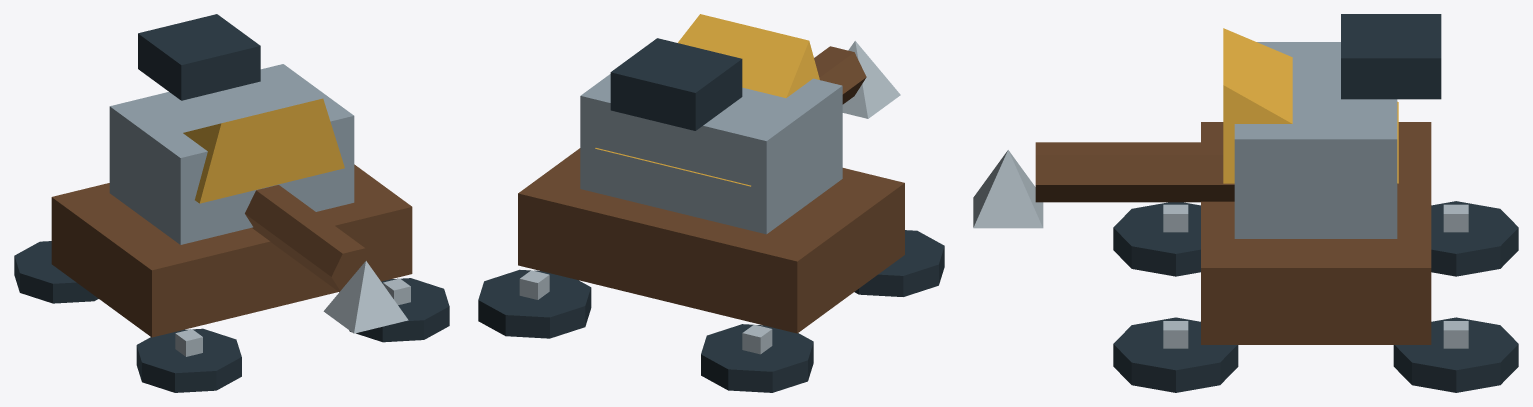
Rendered from siege.obj.
3 renders of one model, left to right at view 1: azimuth 30°, elevation 25°; view 2: azimuth 150°, elevation 25°; view 3: azimuth 270°, elevation 25°, orthographic. The views are drawn at different scales.
Parts seen in each view (by area): view 1: siege; view 2: siege; view 3: siege.
Part boxes in pixels (<box>): siege: <box>14,14,449,392</box>; siege: <box>478,14,944,392</box>; siege: <box>973,14,1518,392</box>.
Bounding box in the file's own units: 1.6 × 1.2 × 2.18.
